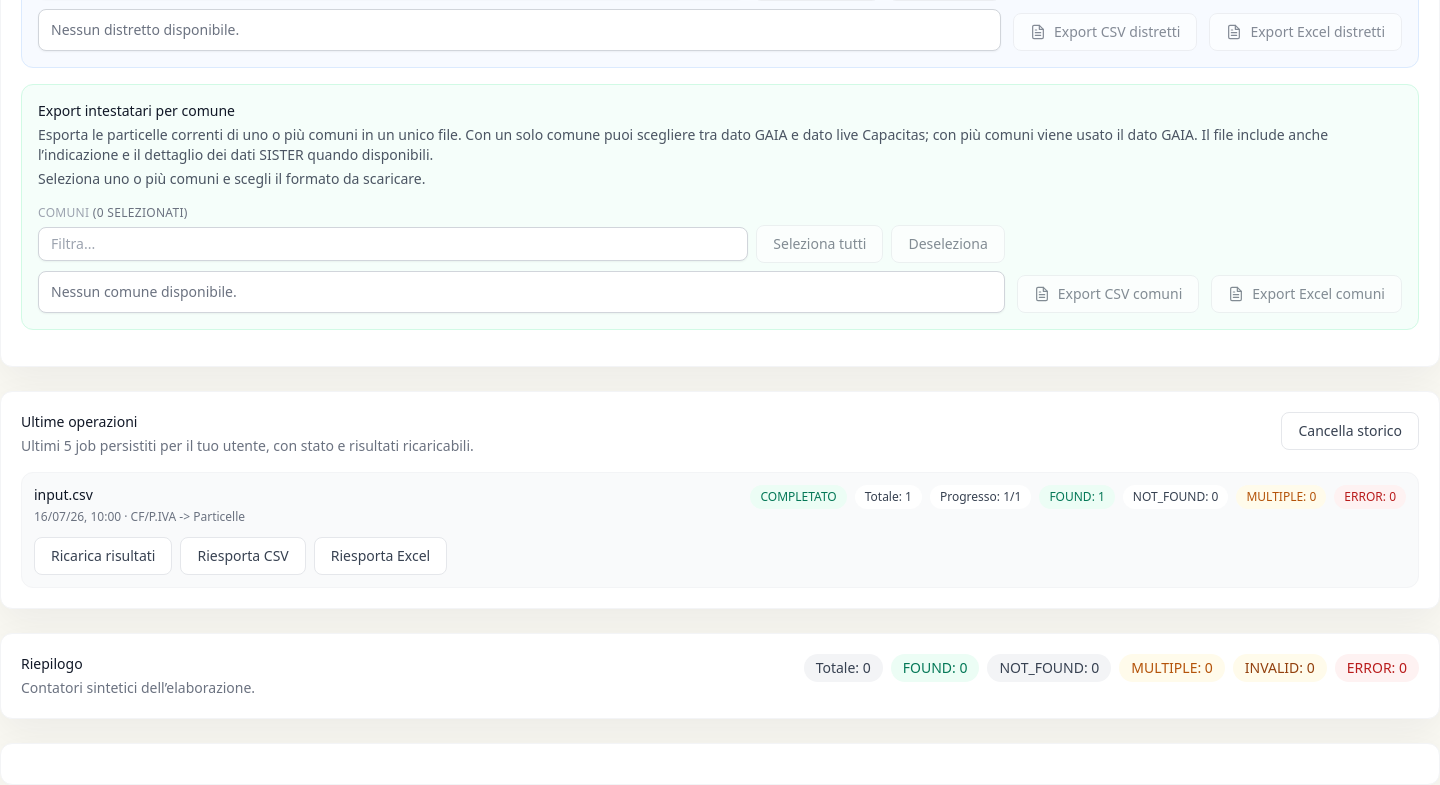
Test: AnagraficaBulkPanel bulk workflow › deletes saved history only after confirmation
(page scrolled)
Click the button "Cancella storico" at (1350, 431), box [1282,412,1419,450]
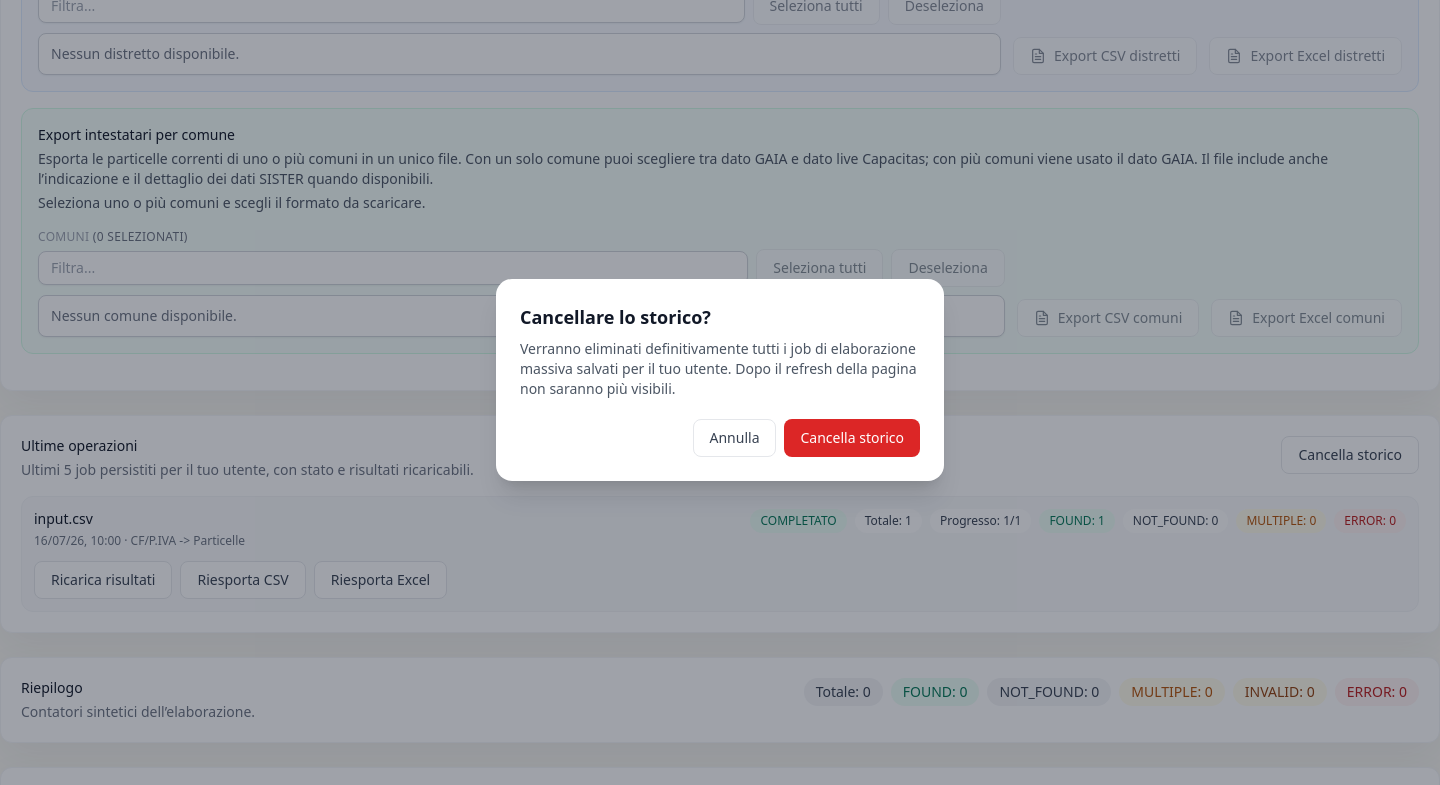
Click the button "Annulla" at (734, 438), box [692,419,776,457]
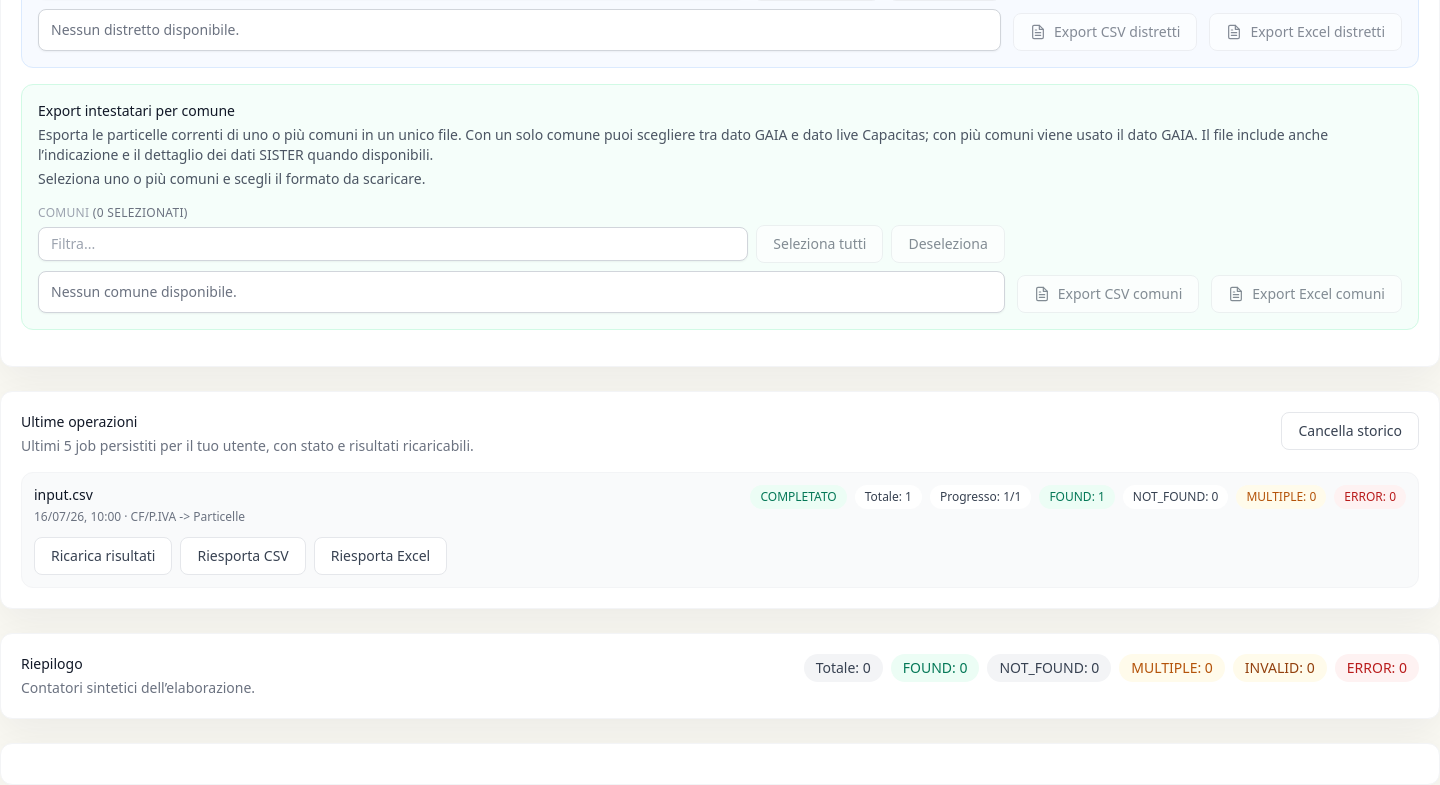
Click the button "Cancella storico" at (1350, 431), box [1282,412,1419,450]
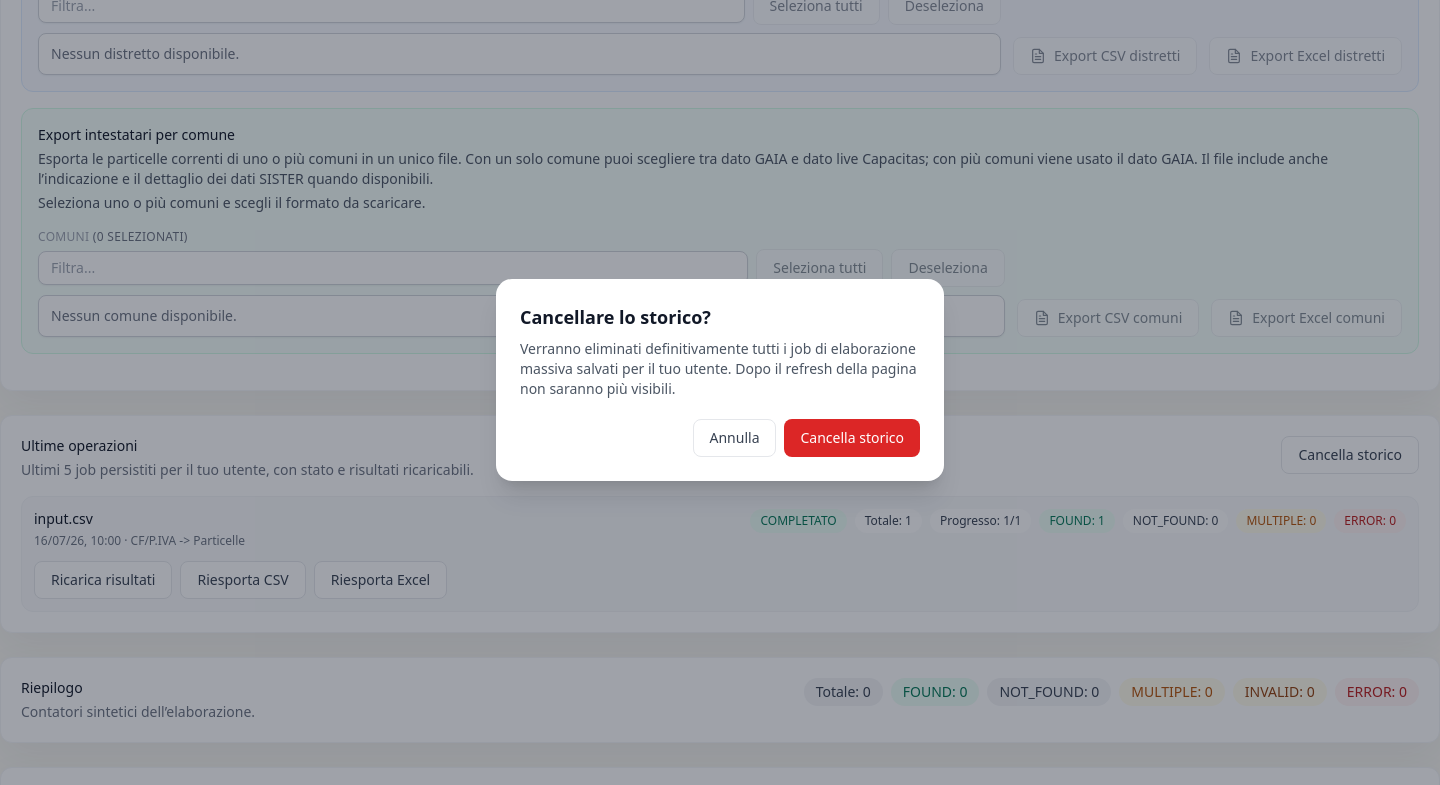
Click the button "Cancella storico" at (852, 438), box [784,419,920,457]
(page scrolled)
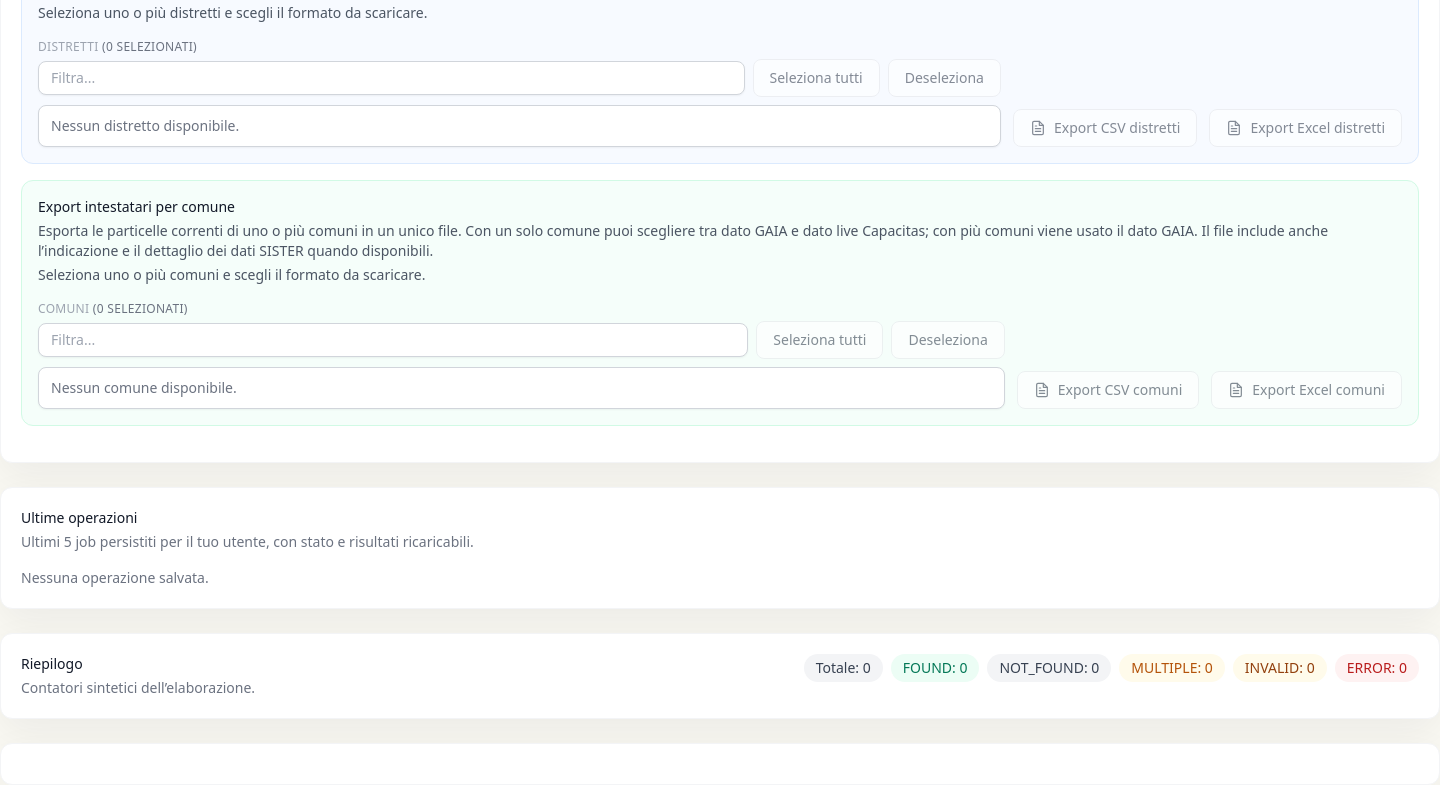
Result: the text "Nessuna operazione salvata." is shown at [21,568,209,587]
